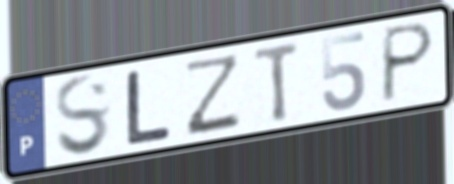5: (319, 28, 368, 113)
L: (124, 67, 174, 148)
P: (378, 19, 438, 107)
S: (52, 72, 113, 160)
T: (252, 38, 303, 126)
Z: (183, 50, 244, 139)
